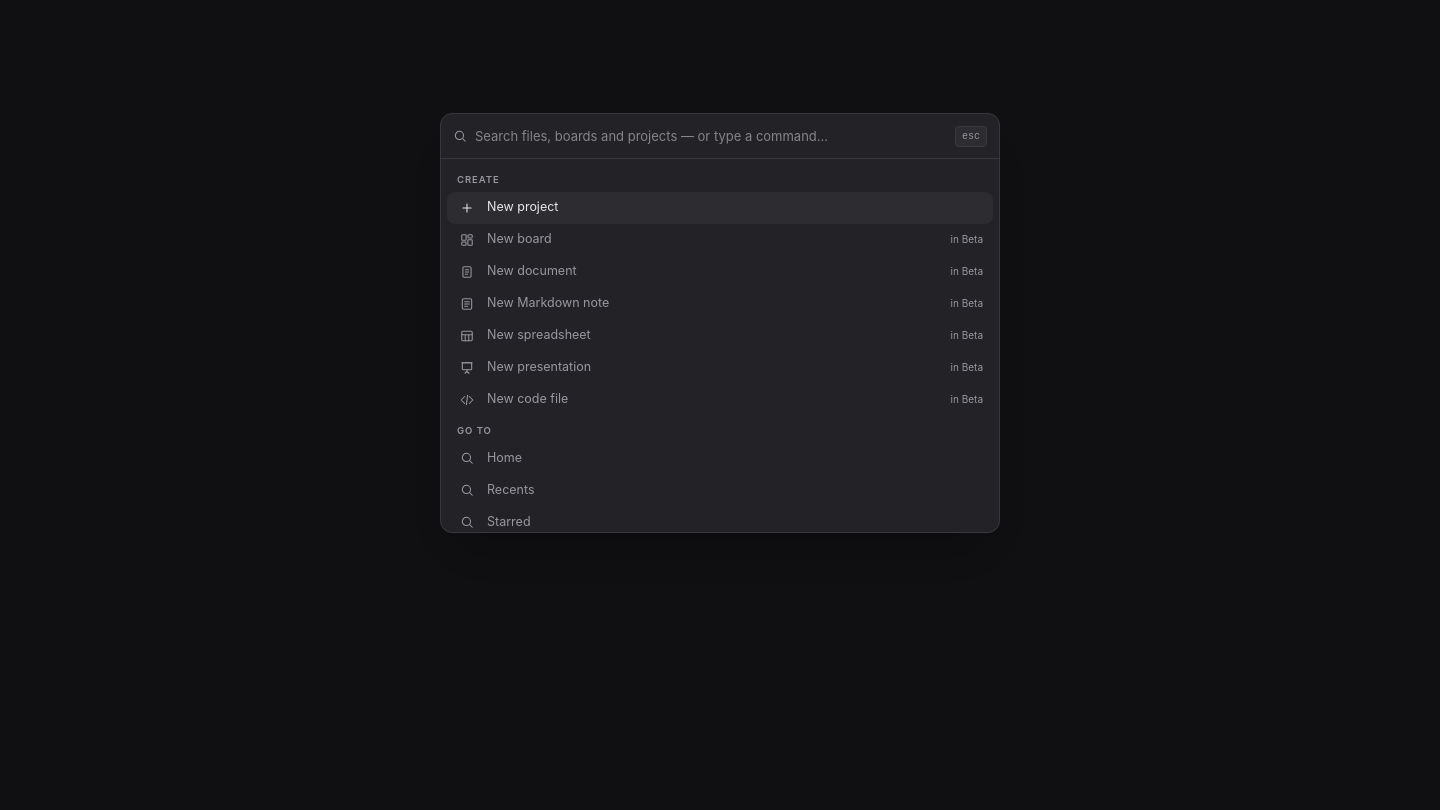
Test: a failed search is a place to act › offers to create what was typed, named
In the field: (711, 136) [475, 114, 947, 158], type "quarterly review"
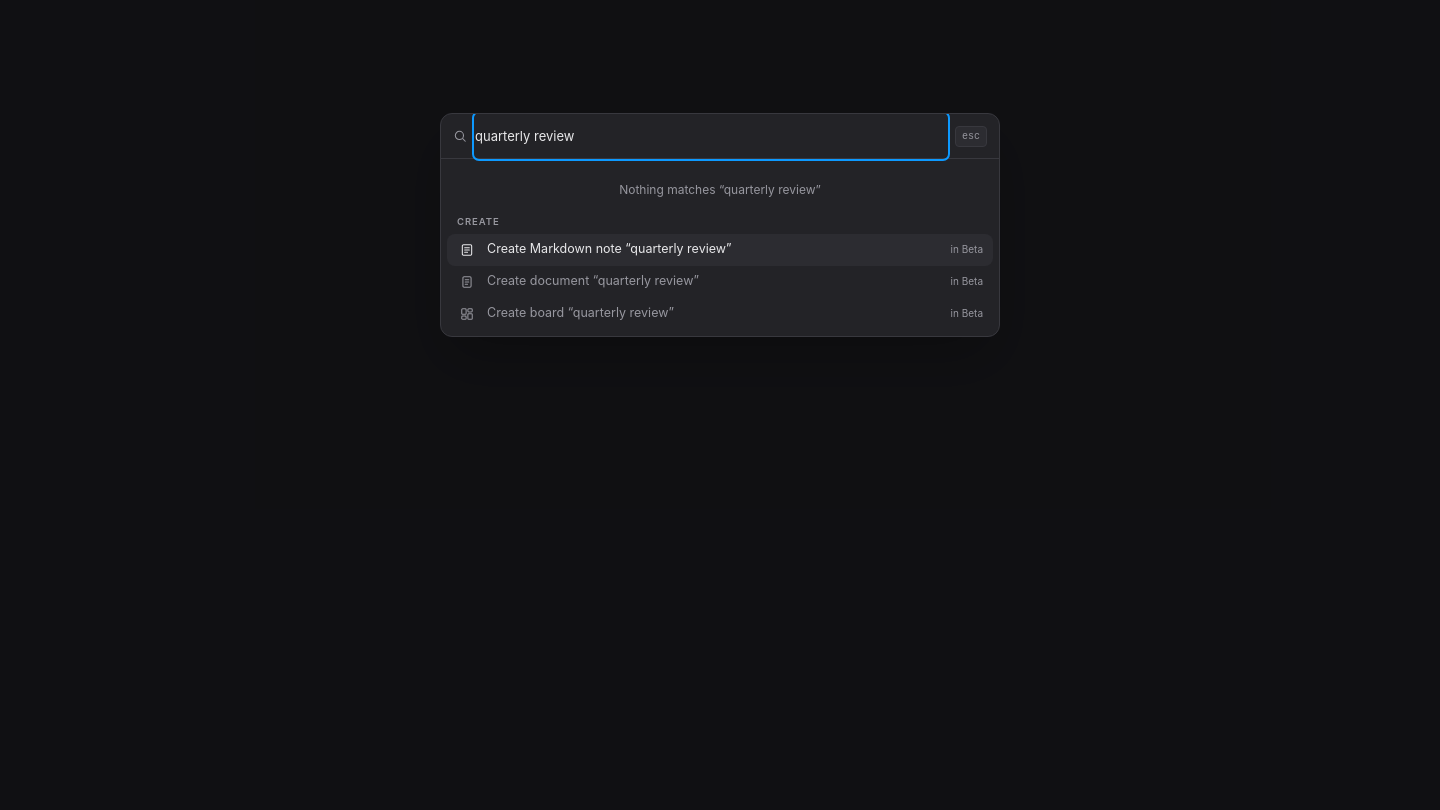
Now the text "Create Markdown note “quarterly review”" is shown, box [487, 241, 732, 256]
Now the text "Create document “quarterly review”" is shown, box [487, 273, 699, 288]
